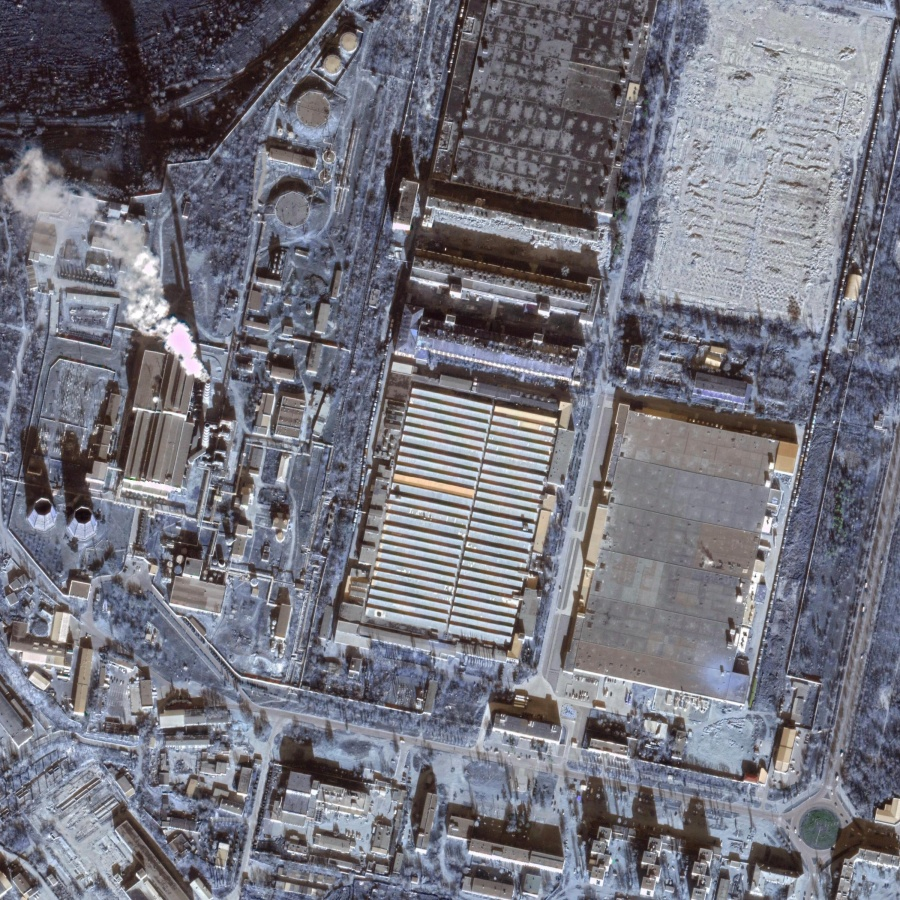PowerPlant: (14, 291, 237, 552)
